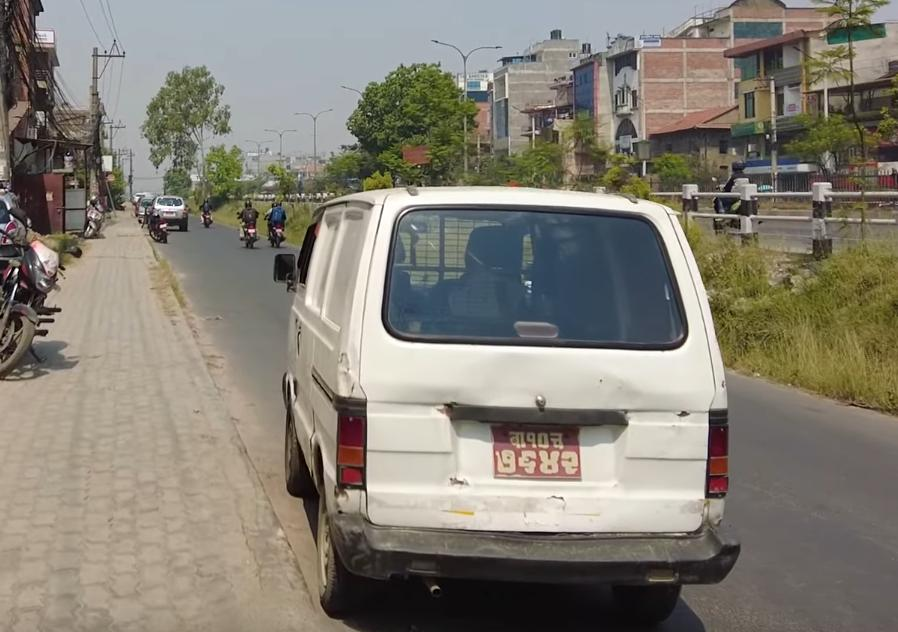van: (268, 178, 769, 632)
